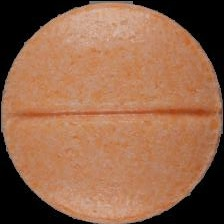0904-5656: (0, 0, 224, 224)
